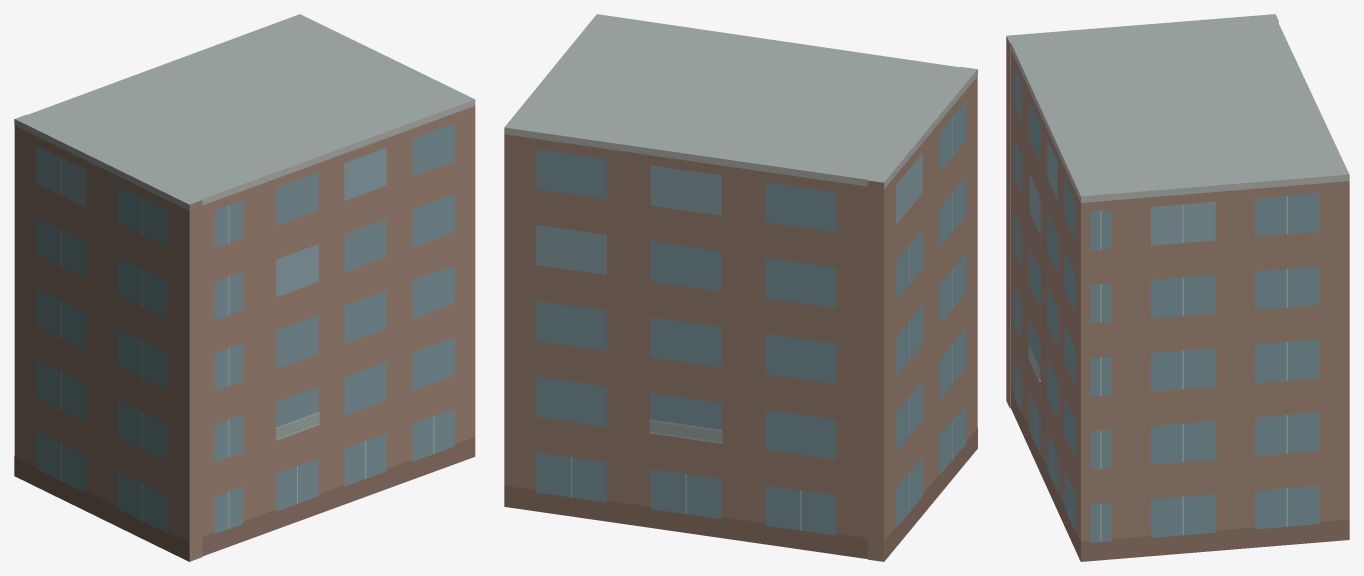
File: survey-upis-32894573.glb
3 views of the same model, side by side, from view 1: azimuth 30°, elevation 25°; view 2: azimuth 150°, elevation 25°; view 3: azimuth 270°, elevation 25° (orthographic). The views are drawn at different scales.
Parts seen in each view (by area): view 1: survey-upis-32894573.tmp; view 2: survey-upis-32894573.tmp; view 3: survey-upis-32894573.tmp.
Boxes of the visible parts, x1,y1,x2,y2 form: survey-upis-32894573.tmp: (14,14,475,561); survey-upis-32894573.tmp: (504,14,977,561); survey-upis-32894573.tmp: (1006,14,1349,561).
Bounding box in the file's own units: 14.69 × 13.7 × 11.67.
